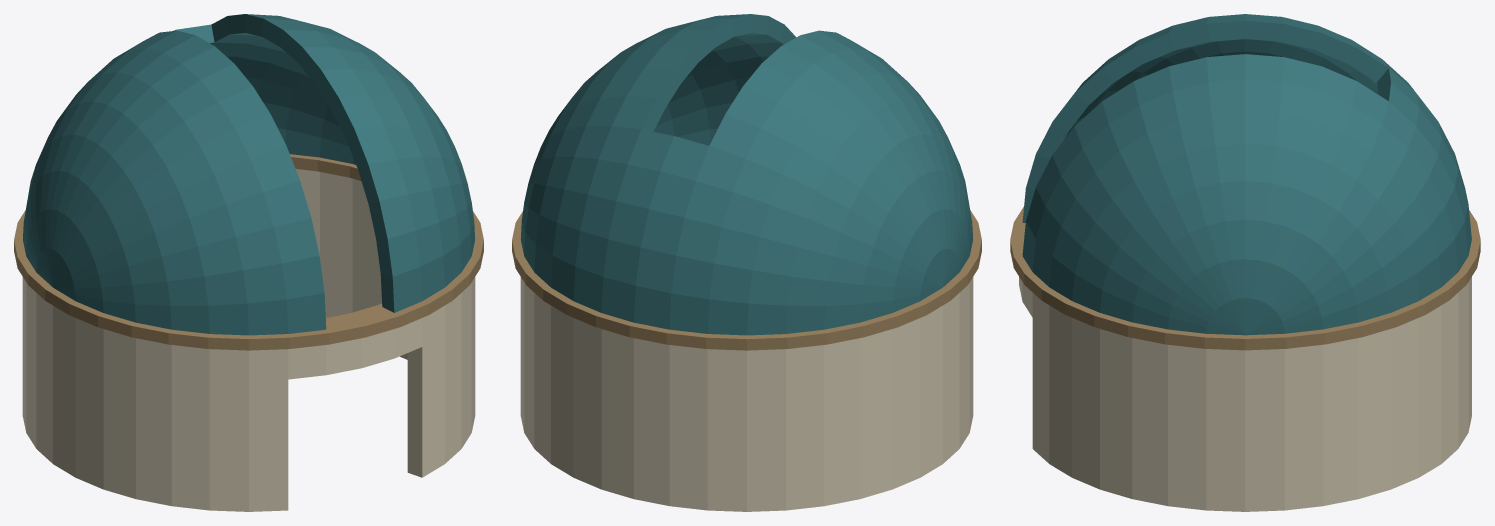
The picture shows the model from 3 angles, left to right: view 1: azimuth 30°, elevation 25°; view 2: azimuth 150°, elevation 25°; view 3: azimuth 270°, elevation 25°; orthographic projection.
Parts seen in each view (by area): view 1: Slotted_ThickDome, CircularWall_TrueDoorway, Complete_AnnularSeat; view 2: Slotted_ThickDome, CircularWall_TrueDoorway, Complete_AnnularSeat; view 3: Slotted_ThickDome, CircularWall_TrueDoorway, Complete_AnnularSeat.
Boxes of the visible parts, x1,y1,x2,y2 form: Slotted_ThickDome: [23, 14, 475, 335]; CircularWall_TrueDoorway: [22, 169, 475, 511]; Complete_AnnularSeat: [14, 154, 483, 350]; Slotted_ThickDome: [520, 14, 972, 335]; CircularWall_TrueDoorway: [520, 277, 973, 511]; Complete_AnnularSeat: [512, 210, 981, 350]; Slotted_ThickDome: [1022, 14, 1471, 335]; CircularWall_TrueDoorway: [1019, 277, 1471, 511]; Complete_AnnularSeat: [1010, 207, 1480, 350].
Bounding box in the file's own units: 3.74 × 3.32 × 3.74.
